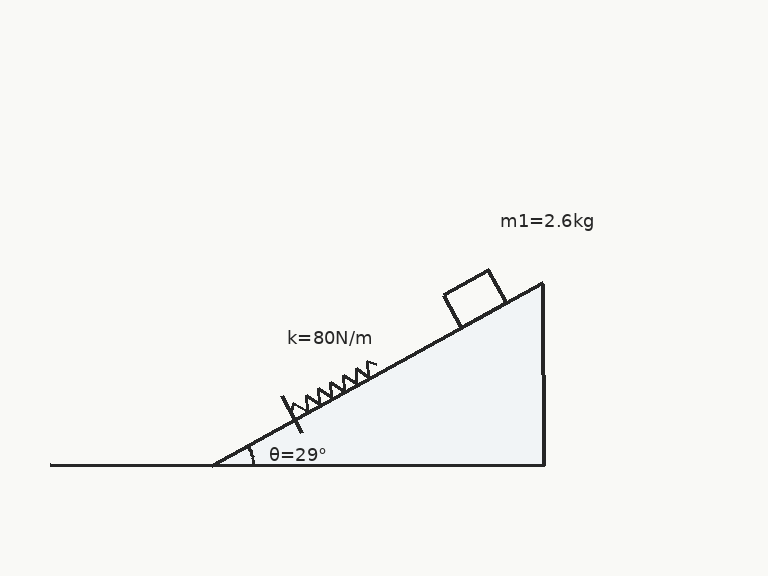block: (441, 268, 508, 329)
ramp: (211, 280, 545, 467)
spring: (289, 359, 379, 413)
